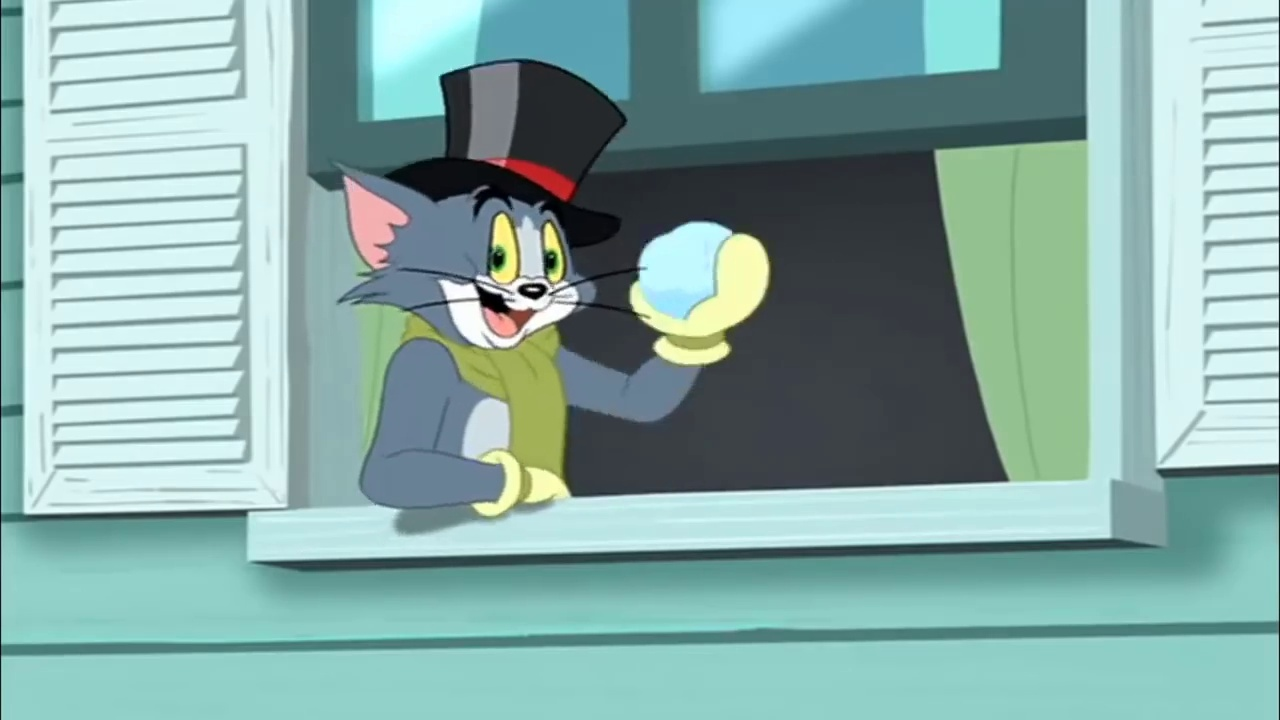face: (454, 189, 576, 351)
